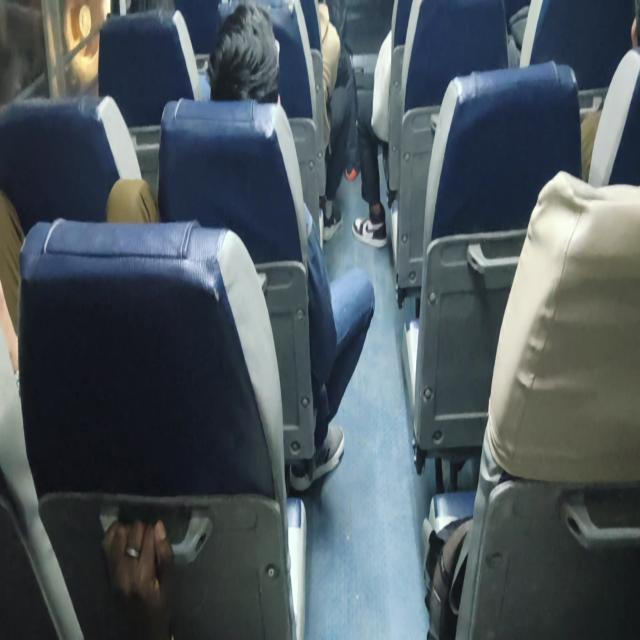person: (213, 12, 289, 118)
